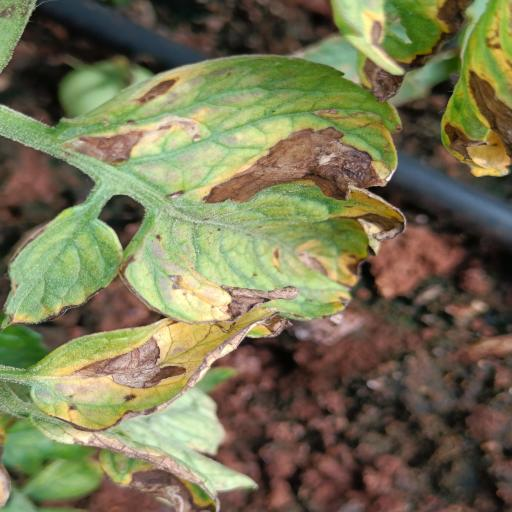Early Blight: (51, 51, 407, 325), (25, 304, 300, 434)
